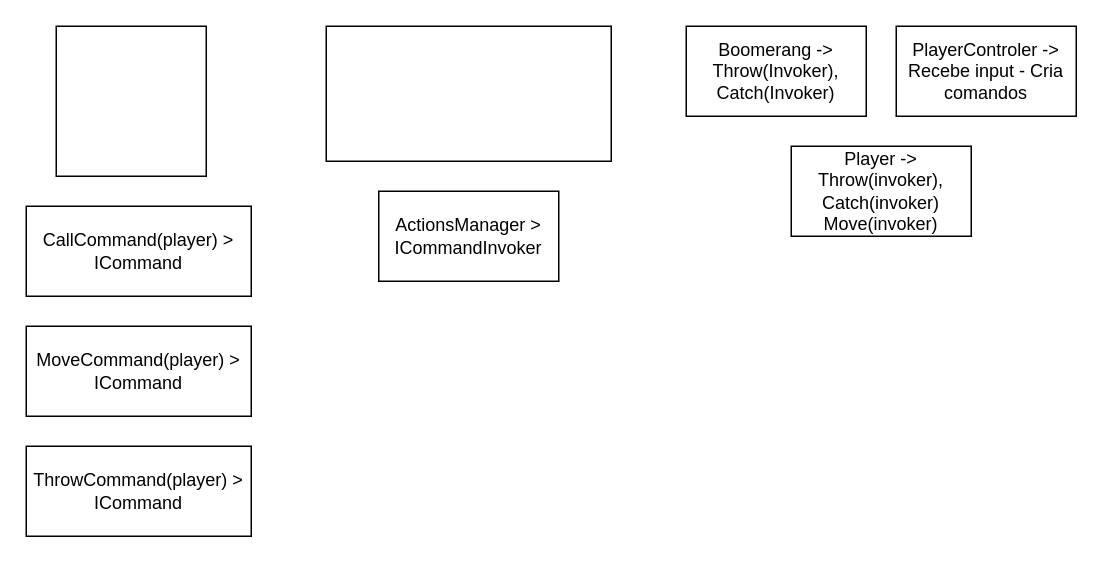
Some shapes in this 1103 by 563 pixel diagram are drawn without their labels. Each missing label, with the centre of its shape:
"ICommand { Execute Validate }" goes at (x=130, y=100).
"ICommandInvoker { InvokeCommand FinishedCommandExecution }" goes at (x=468, y=93).
